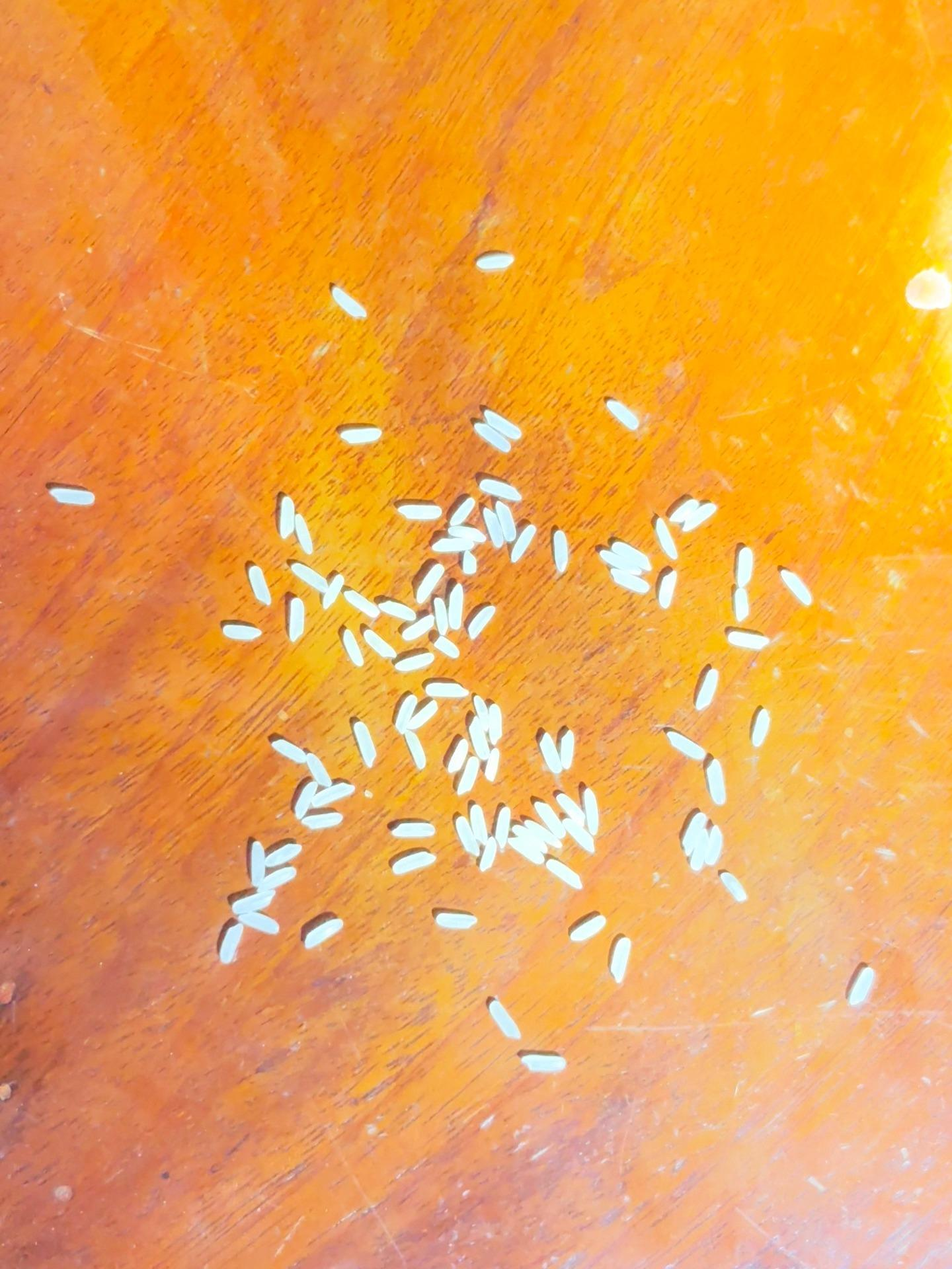Rice-th-y-nh: (303, 918, 344, 950), (488, 1001, 521, 1040), (681, 813, 708, 859), (534, 800, 565, 840), (666, 730, 706, 761), (522, 819, 562, 850), (546, 859, 584, 891), (780, 569, 813, 605), (311, 782, 356, 808), (562, 818, 595, 853), (611, 542, 652, 570), (291, 563, 328, 594), (484, 409, 522, 439), (507, 835, 545, 865), (415, 564, 444, 603), (609, 937, 633, 984), (474, 423, 511, 453), (256, 866, 297, 893), (848, 967, 875, 1008), (218, 923, 245, 964), (353, 721, 377, 767), (332, 288, 367, 319), (392, 851, 437, 875), (454, 816, 480, 857), (247, 841, 270, 887), (682, 502, 717, 532), (468, 715, 491, 760), (232, 891, 275, 915), (600, 550, 643, 574), (556, 793, 586, 827), (611, 569, 650, 595), (695, 669, 719, 711), (570, 915, 607, 942), (606, 400, 639, 430), (510, 525, 536, 563), (467, 605, 496, 639), (654, 518, 678, 559), (239, 911, 280, 935), (344, 591, 379, 619), (457, 756, 481, 796), (248, 565, 272, 605), (539, 734, 563, 774), (364, 630, 397, 659), (706, 759, 727, 804), (407, 702, 439, 731), (480, 479, 522, 501), (49, 486, 95, 506), (493, 806, 513, 852), (306, 753, 332, 788), (689, 830, 711, 871), (294, 781, 317, 820), (582, 788, 601, 835), (265, 843, 302, 867), (401, 615, 435, 641), (277, 496, 298, 538), (395, 695, 417, 735), (483, 508, 505, 548), (272, 739, 307, 764), (720, 872, 748, 903), (516, 826, 548, 853), (521, 1054, 566, 1073), (727, 631, 769, 651), (704, 826, 725, 866), (392, 821, 436, 840), (405, 730, 426, 769), (469, 805, 490, 844), (342, 629, 364, 666), (424, 682, 469, 700), (378, 600, 416, 621), (751, 709, 772, 747), (448, 584, 465, 630), (496, 502, 516, 541), (447, 739, 469, 774), (448, 524, 486, 544), (558, 730, 577, 770), (486, 704, 505, 744), (301, 812, 343, 830), (435, 912, 477, 930), (322, 575, 344, 609), (395, 653, 434, 672), (658, 571, 678, 608), (736, 547, 754, 588), (478, 837, 499, 872), (288, 598, 305, 641), (432, 537, 475, 554), (295, 515, 313, 554), (450, 498, 475, 526), (670, 499, 699, 523), (733, 587, 752, 622), (398, 505, 442, 520), (553, 531, 569, 572), (473, 695, 491, 731), (340, 428, 381, 443), (433, 598, 449, 635), (484, 748, 501, 782), (477, 254, 513, 270), (223, 625, 261, 640), (434, 636, 459, 658), (462, 551, 477, 575)
